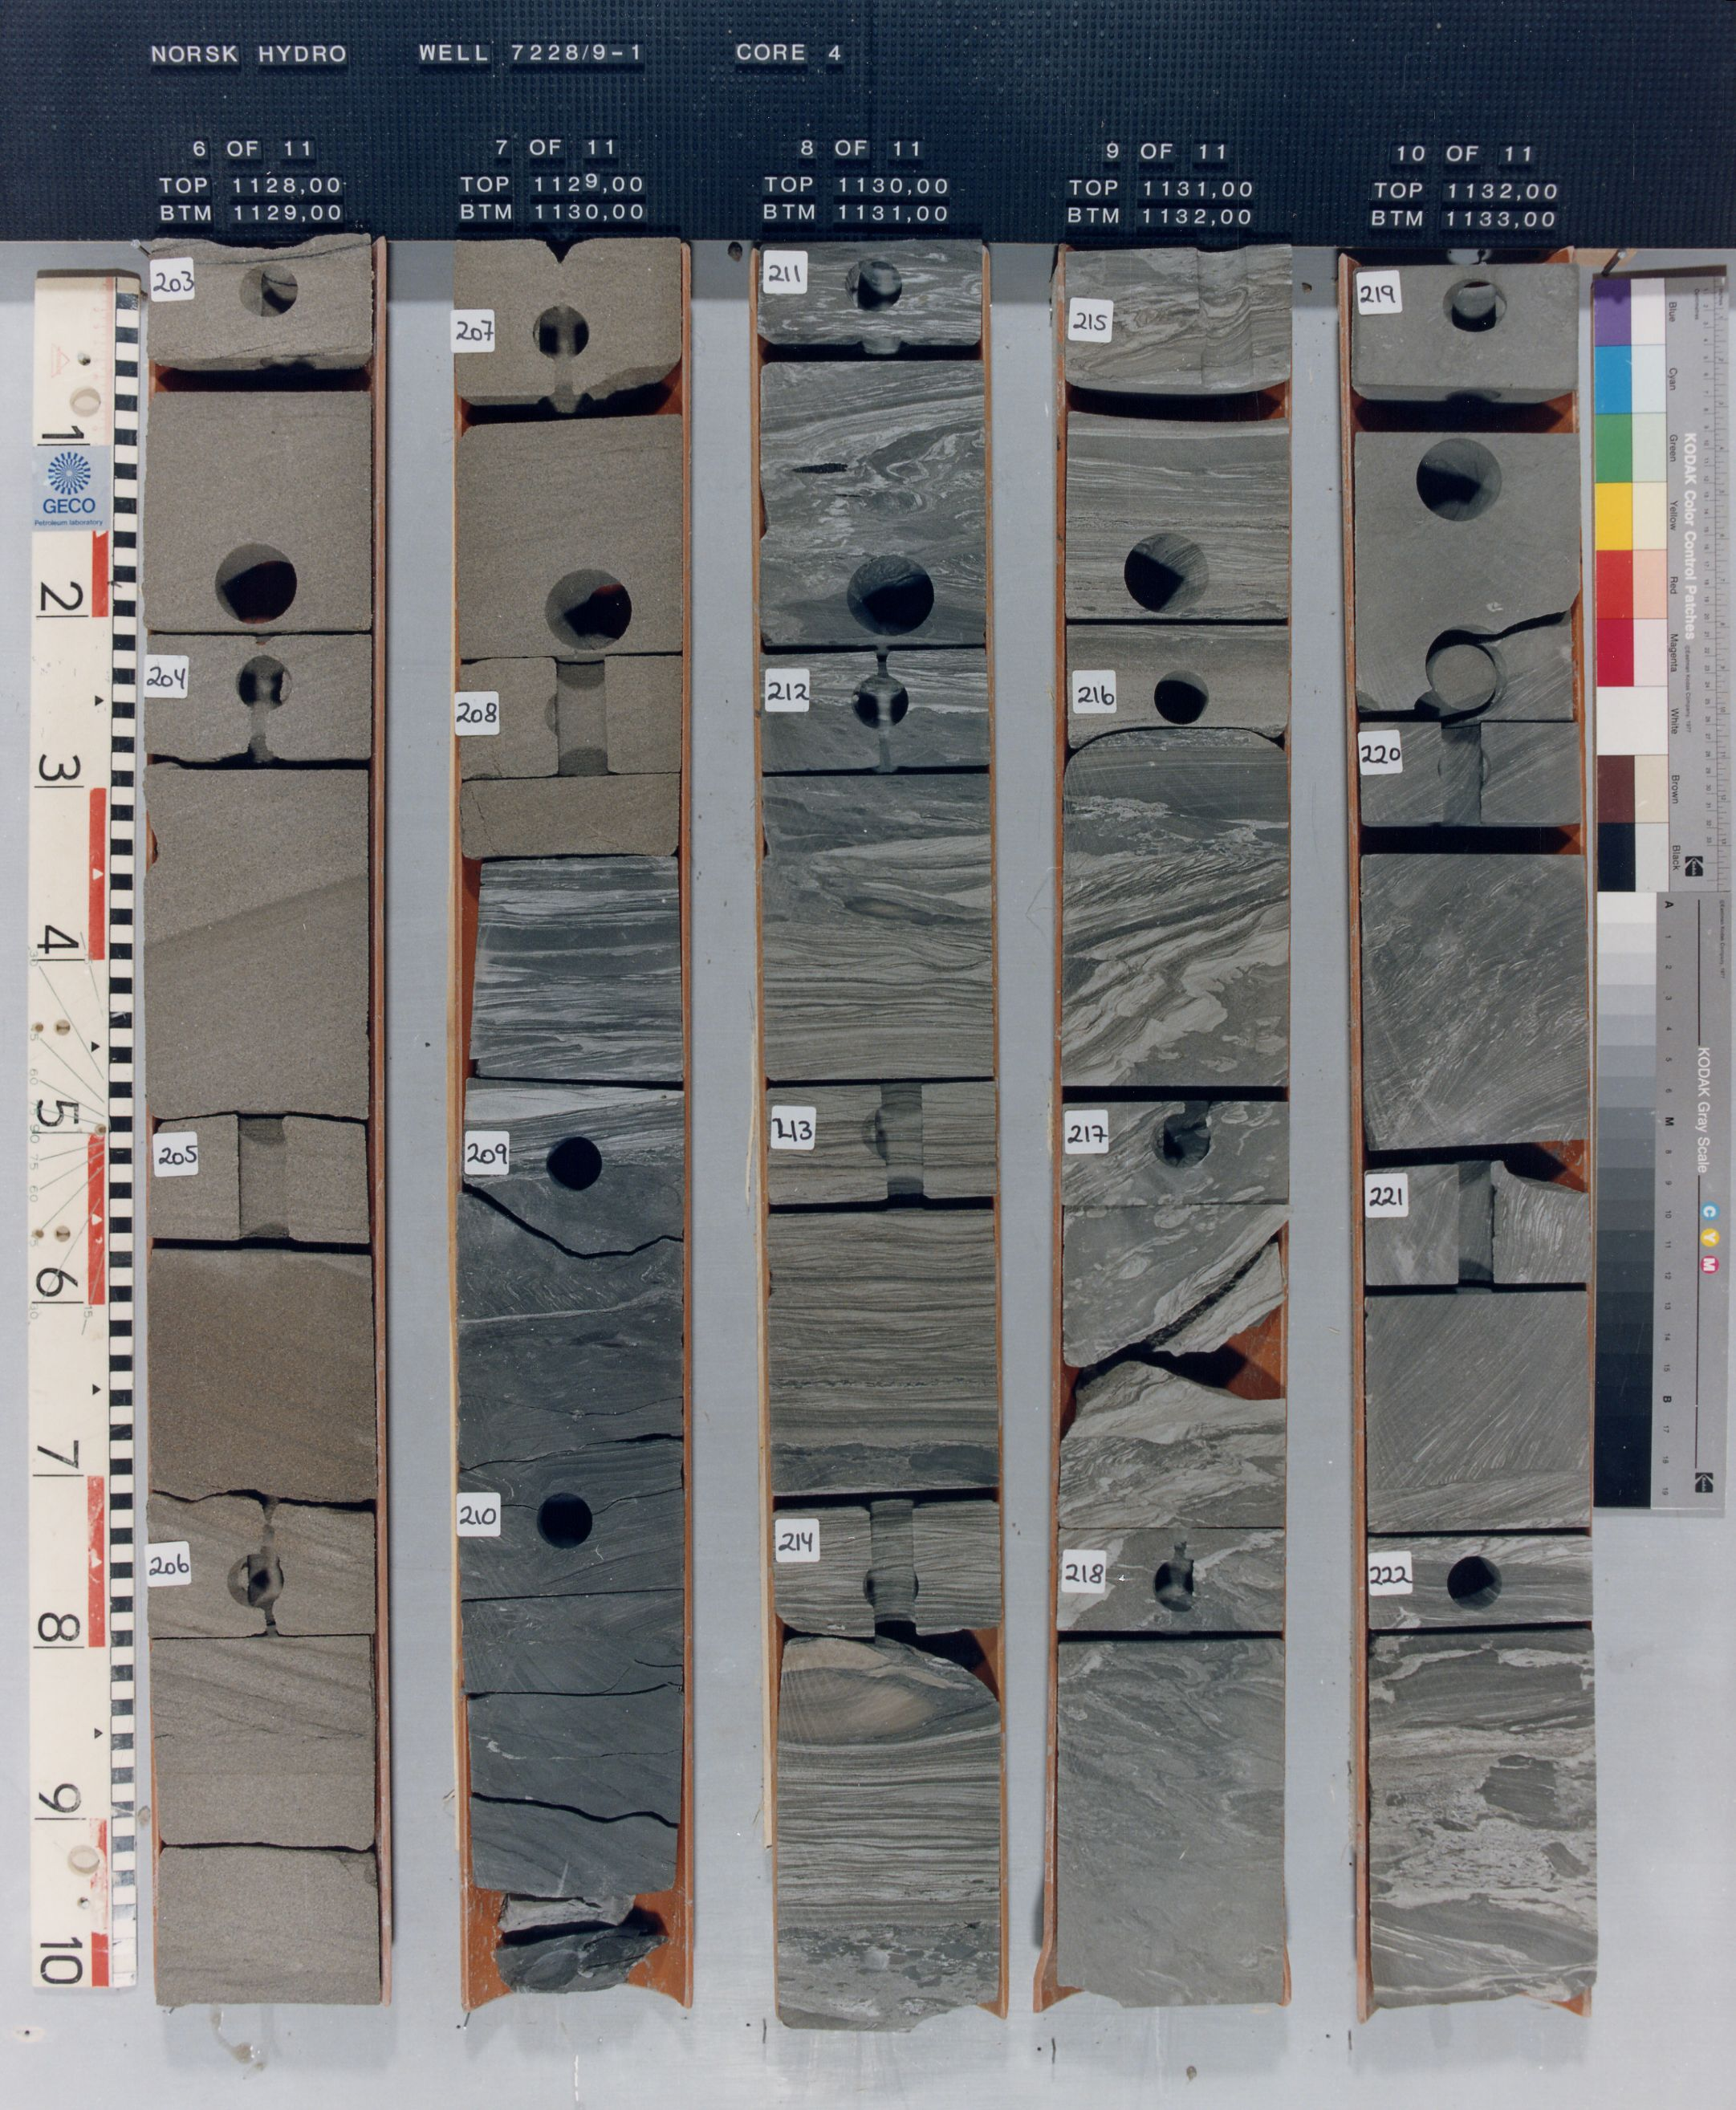core: (142, 233, 385, 2005), (448, 238, 694, 1996), (1351, 261, 1596, 2003), (766, 238, 993, 2031), (1058, 242, 1288, 2008)
